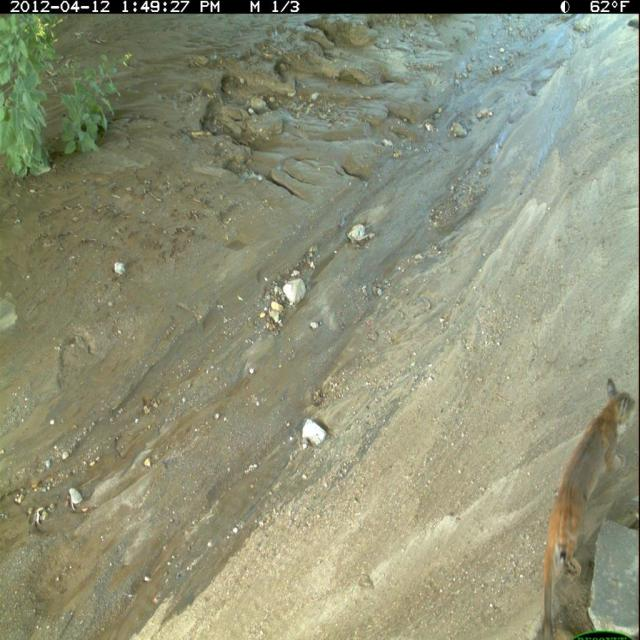bobcat: (536, 378, 640, 640)
